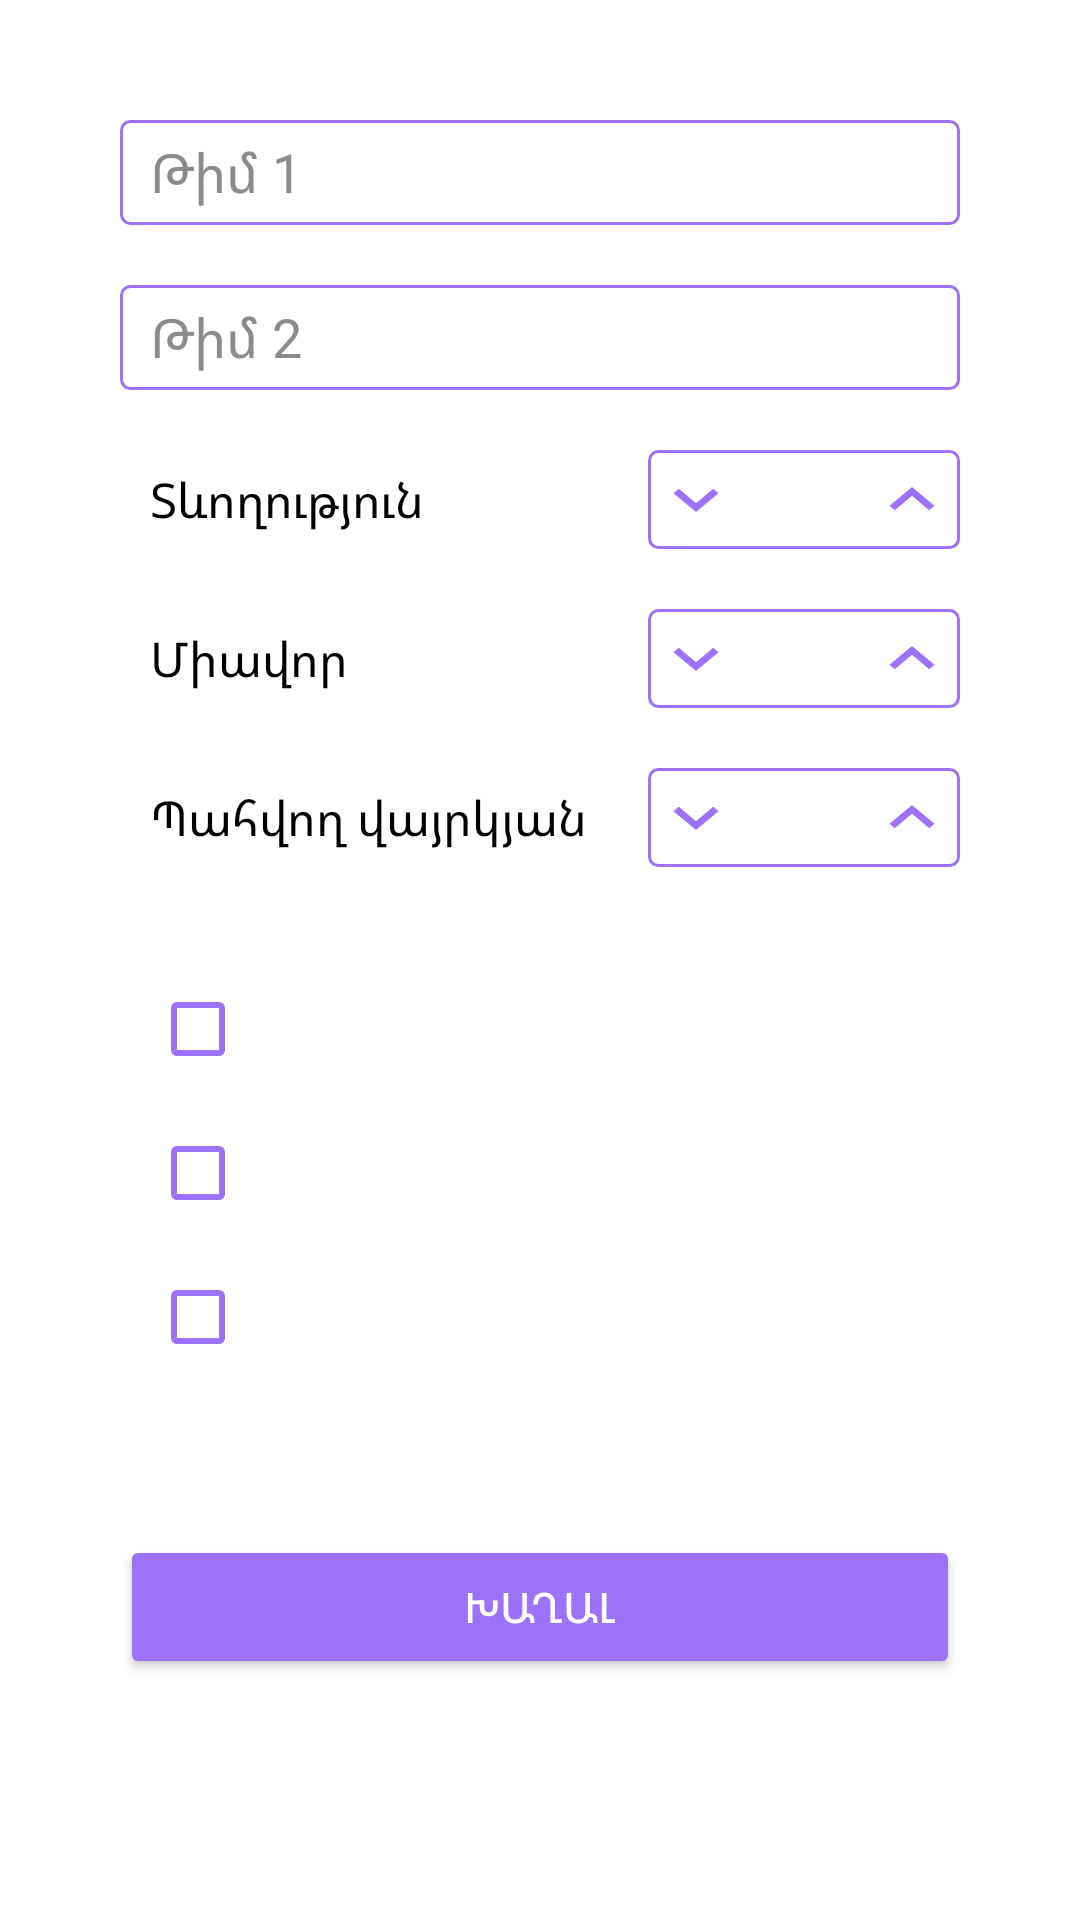

Icons on this 1080x1920 Android screen, each with its box as (x1, y1, x2, y2):
down: (673, 489, 719, 512), (673, 648, 719, 671), (673, 807, 719, 830)
